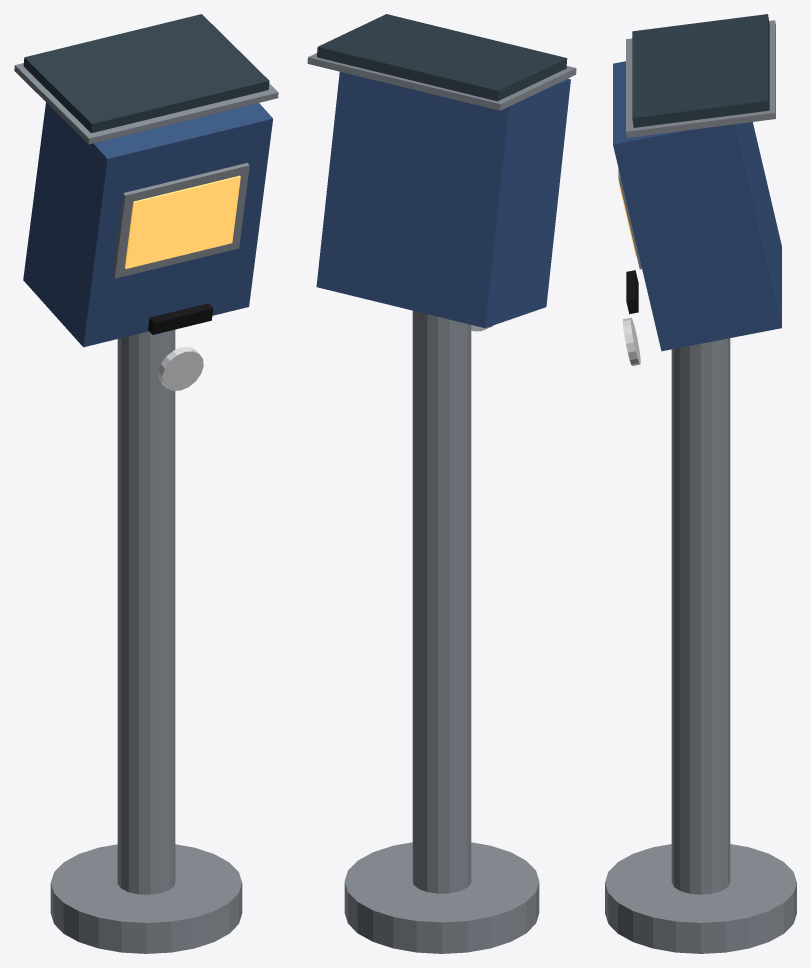
File: parking_meter.glb
3 renders of one model, left to right at view 1: azimuth 30°, elevation 25°; view 2: azimuth 150°, elevation 25°; view 3: azimuth 270°, elevation 25°, orthographic.
Parts seen in each view (by area): view 1: ParkingMeter; view 2: ParkingMeter; view 3: ParkingMeter.
Boxes of the visible parts, x1,y1,x2,y2 form: ParkingMeter: (14,14,278,953); ParkingMeter: (307,14,576,953); ParkingMeter: (605,14,796,953).
Size of the model in its own units: 0.032 by 0.1378 by 0.028.
